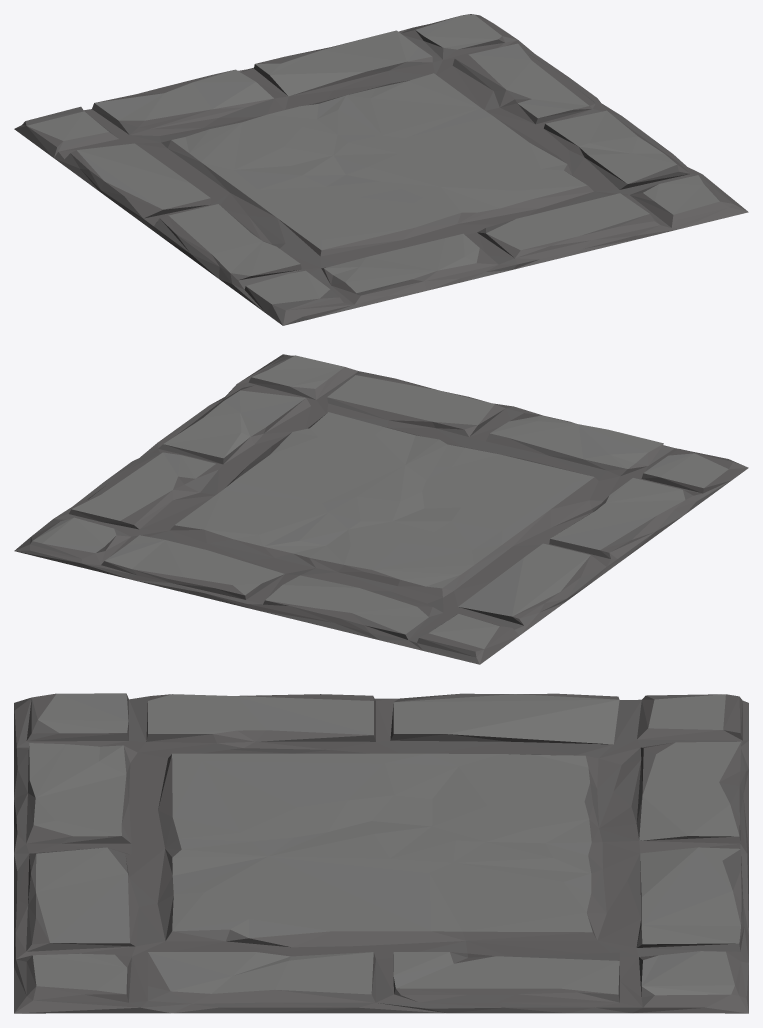
Rendered from SM_Env_Tiles_010.FBX.
3 views of the same model, one above another, from view 1: azimuth 30°, elevation 25°; view 2: azimuth 150°, elevation 25°; view 3: azimuth 270°, elevation 25° (orthographic). The views are drawn at different scales.
Visible parts, largest first — view 1: SM_Env_Tiles_010; view 2: SM_Env_Tiles_010; view 3: SM_Env_Tiles_010.
Boxes of the visible parts, x1,y1,x2,y2 form: SM_Env_Tiles_010: [14, 14, 748, 325]; SM_Env_Tiles_010: [14, 354, 748, 664]; SM_Env_Tiles_010: [14, 693, 748, 1013].
Size of what is drawn, in the model's own units: 500 by 500 by 10.14.
